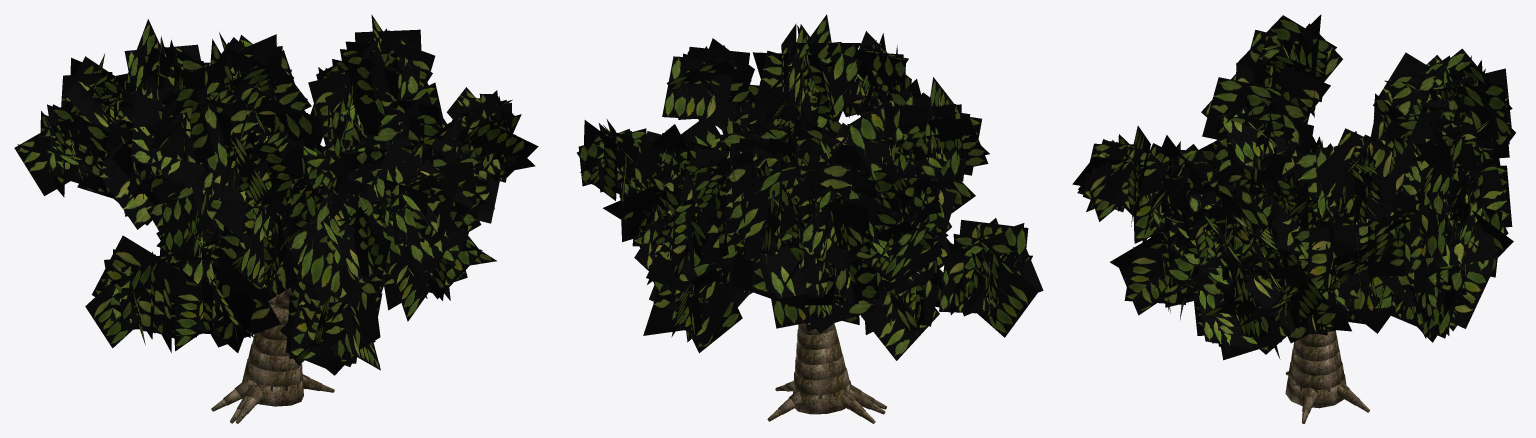
File: giant_4.glb
3 views of the same model, side by side, from view 1: azimuth 30°, elevation 25°; view 2: azimuth 150°, elevation 25°; view 3: azimuth 270°, elevation 25° (orthographic). The views are drawn at different scales.
Parts seen in each view (by area): view 1: giant; view 2: giant; view 3: giant.
Part boxes in pixels (<box>): giant: <box>14,14,538,423</box>; giant: <box>577,14,1043,423</box>; giant: <box>1072,14,1515,423</box>.
Size of the model in its own units: 18.47 by 15.34 by 18.07.
Materials: 2 (2 with a texture image).
